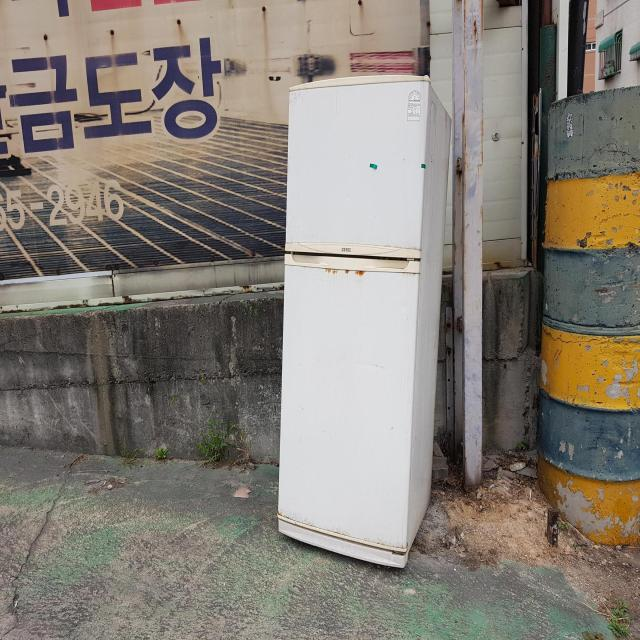refrigerator: (273, 75, 456, 573)
